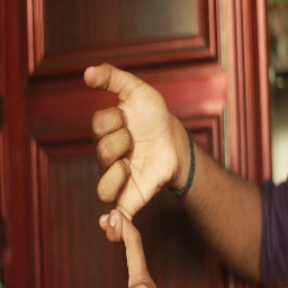S: (81, 60, 185, 288)
